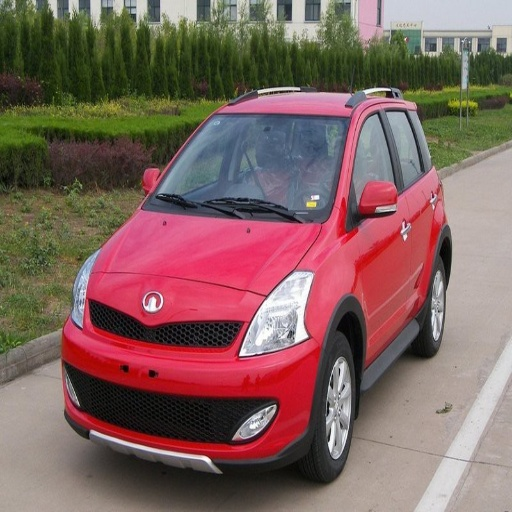front_bumper: (64, 276, 322, 467)
front_glass: (143, 114, 348, 223)
front_left_door: (349, 104, 408, 354)
